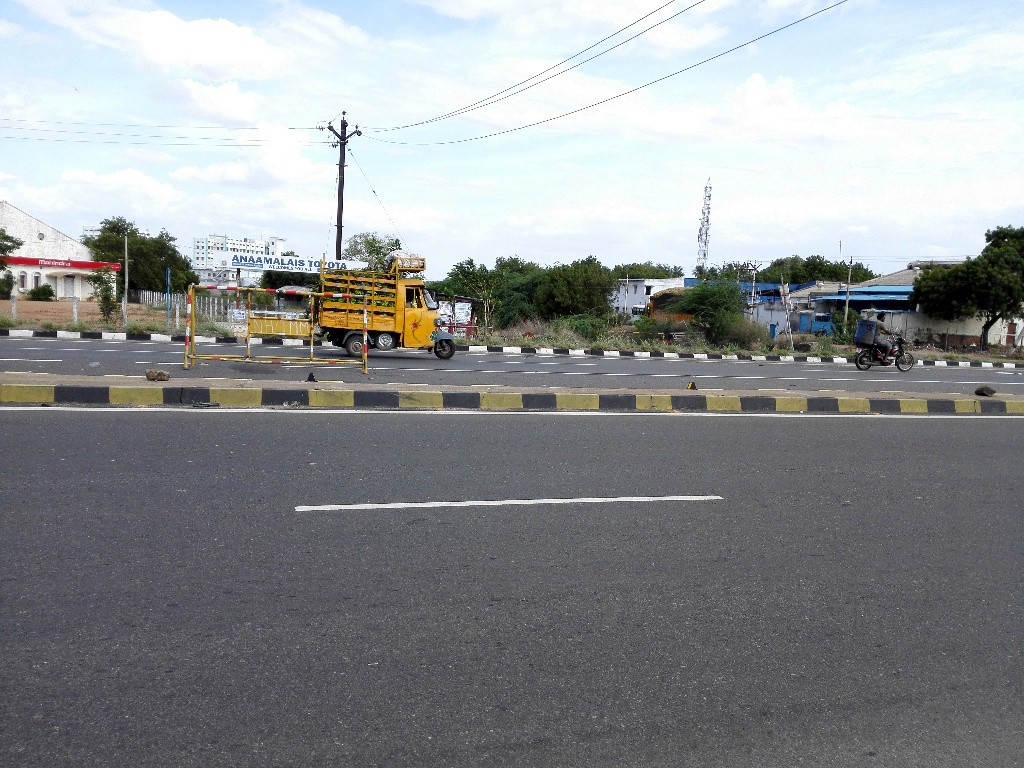biker: (840, 290, 927, 377)
nohelmet: (871, 303, 891, 330)
